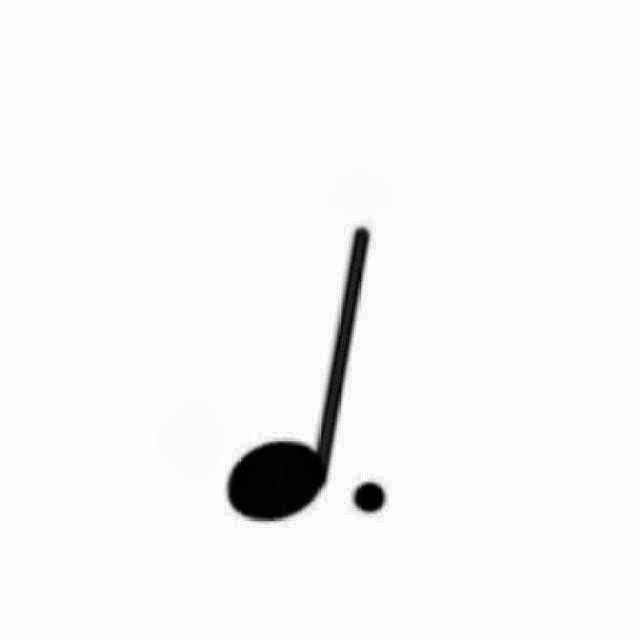Quarter-dot: (216, 212, 407, 538)
